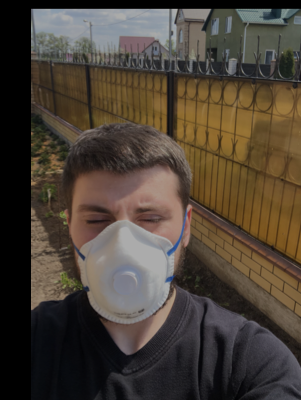with_mask: (71, 187, 180, 324)
